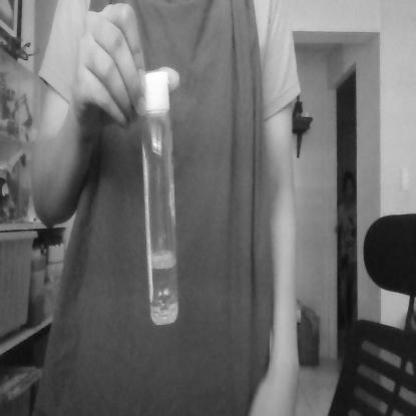Plastic Bottle: (126, 61, 191, 340)
